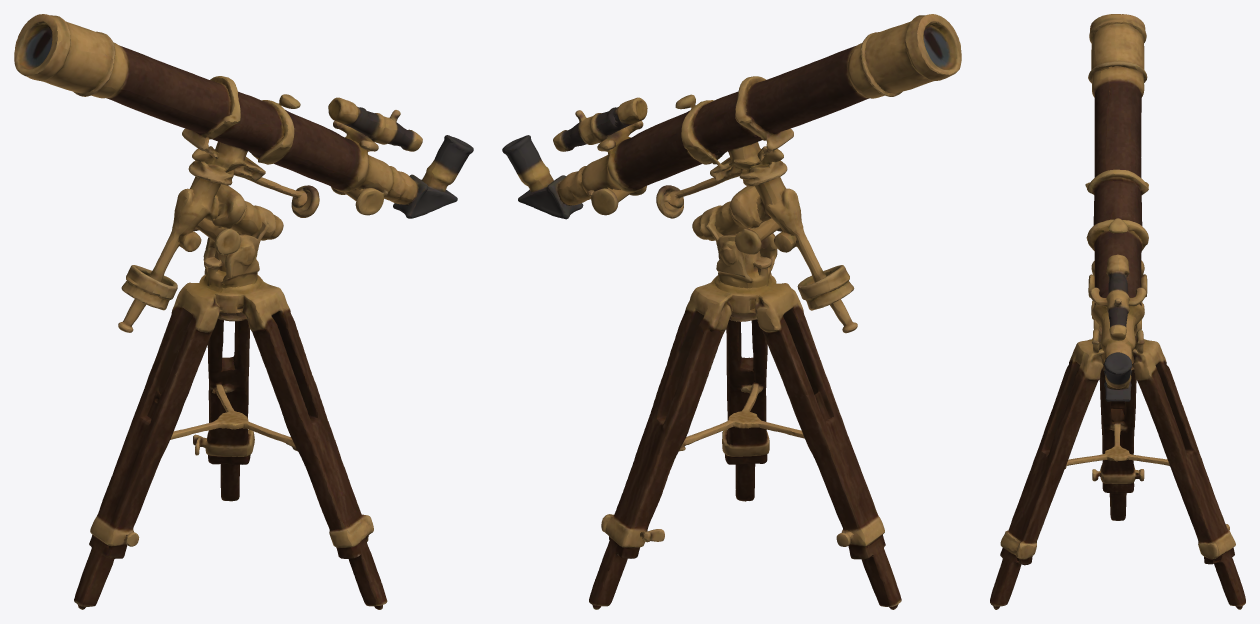
File: telescope.glb
The picture shows the model from 3 angles, left to right: view 1: azimuth 30°, elevation 25°; view 2: azimuth 150°, elevation 25°; view 3: azimuth 270°, elevation 25°; orthographic projection. The views are drawn at different scales.
Parts seen in each view (by area): view 1: world; view 2: world; view 3: world.
Boxes of the visible parts, <box> form: world: <box>14,14,473,609</box>; world: <box>502,14,961,609</box>; world: <box>990,14,1245,609</box>.
Size of the model in its own units: 0.945 by 1.2 by 0.5643.
Materials: 1 (1 with a texture image).
